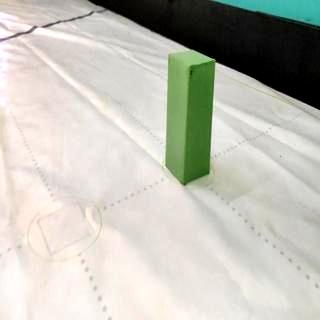greenbox: (166, 51, 216, 185)
